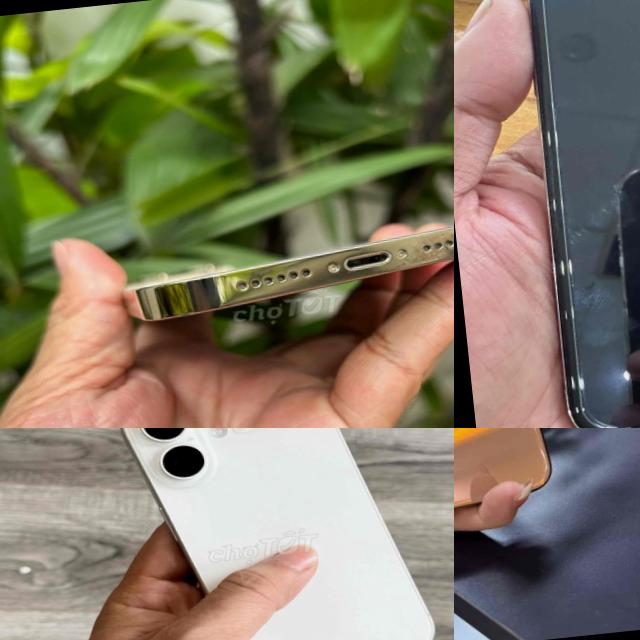gen_14: (113, 202, 454, 324)
gen_17: (122, 428, 433, 640)
gen_x_xs: (527, 0, 640, 428), (454, 428, 557, 544)
